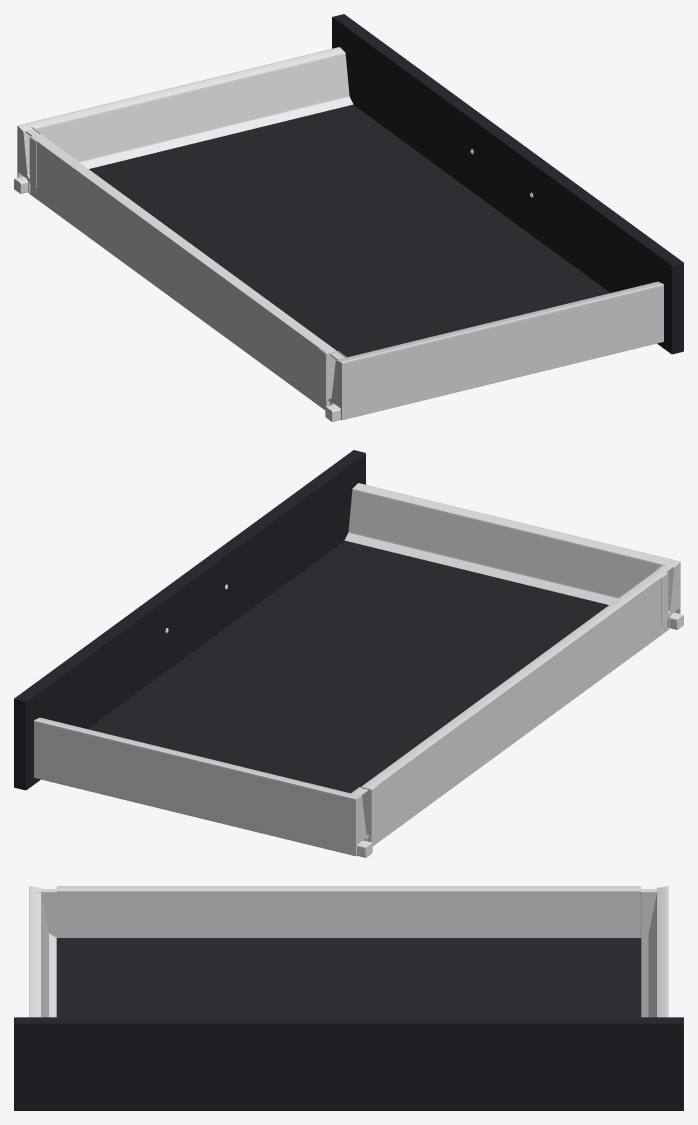
The model's file is Kitchen11Drawer01.fbx.
3 views of the same model, one above another, from view 1: azimuth 30°, elevation 25°; view 2: azimuth 150°, elevation 25°; view 3: azimuth 270°, elevation 25° (orthographic).
Parts seen in each view (by area): view 1: Kitchen11Drawer01; view 2: Kitchen11Drawer01; view 3: Kitchen11Drawer01.
Boxes of the visible parts, left/top/right/bottom form: Kitchen11Drawer01: left=14, top=14, right=683, bottom=421; Kitchen11Drawer01: left=14, top=450, right=683, bottom=857; Kitchen11Drawer01: left=14, top=886, right=683, bottom=1110.
Size of the model in its own units: 51.99 by 89.69 by 13.
4 materials, 1 textured.
